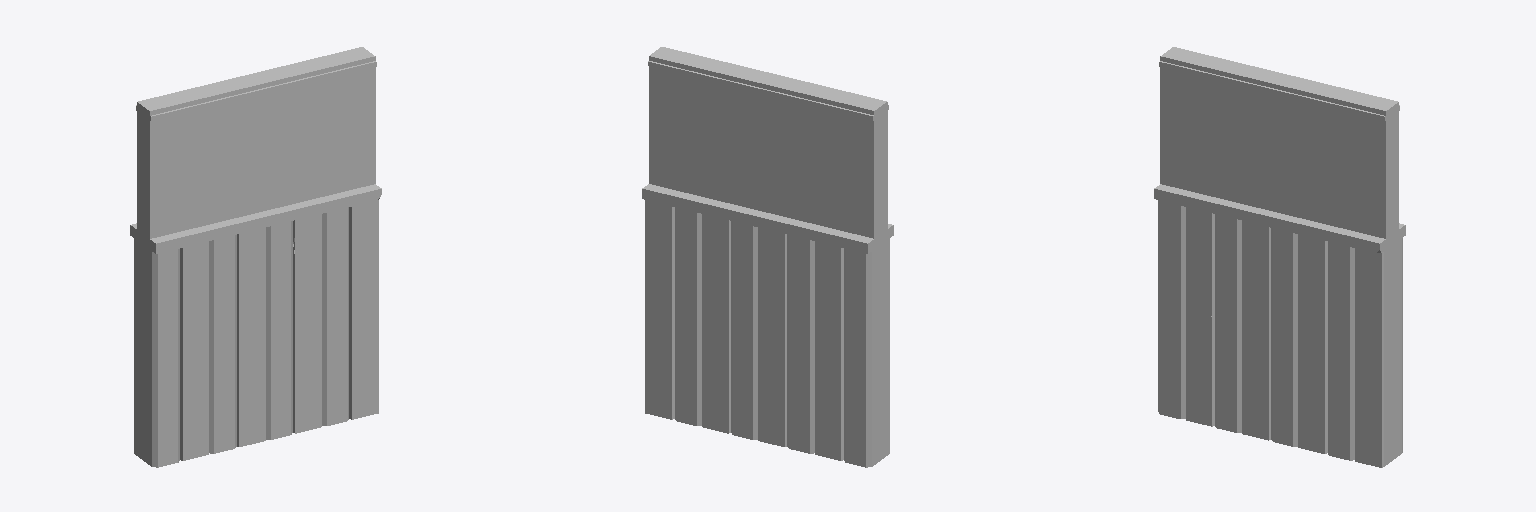
The model's file is Wall_Standard_Alt_2.obj.
3 renders of one model, left to right at view 1: azimuth 30°, elevation 25°; view 2: azimuth 150°, elevation 25°; view 3: azimuth 330°, elevation 25°, orthographic.
Visible parts, largest first — view 1: Wall_Standard_Alt_2; view 2: Wall_Standard_Alt_2; view 3: Wall_Standard_Alt_2.
Boxes of the visible parts, box(x1,y1,x2,y2) form: Wall_Standard_Alt_2: box(130, 47, 381, 467); Wall_Standard_Alt_2: box(642, 47, 893, 467); Wall_Standard_Alt_2: box(1154, 47, 1405, 467).
Bounding box in the file's own units: 2 × 3 × 0.3948.